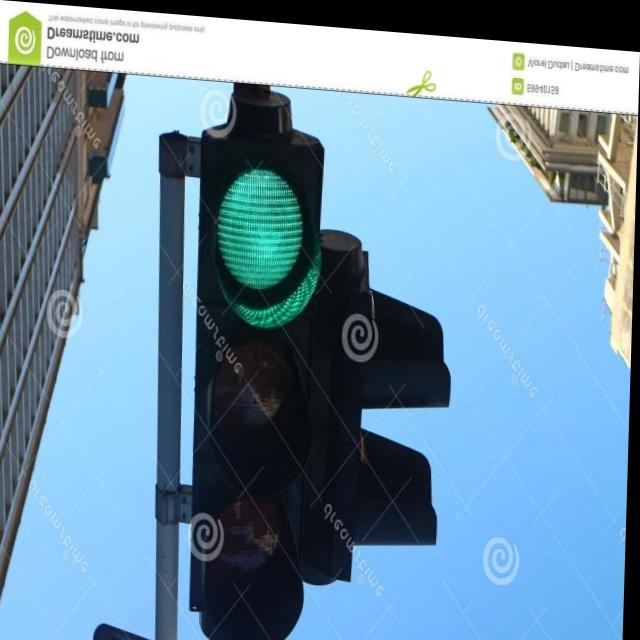green light: (191, 136, 328, 640)
